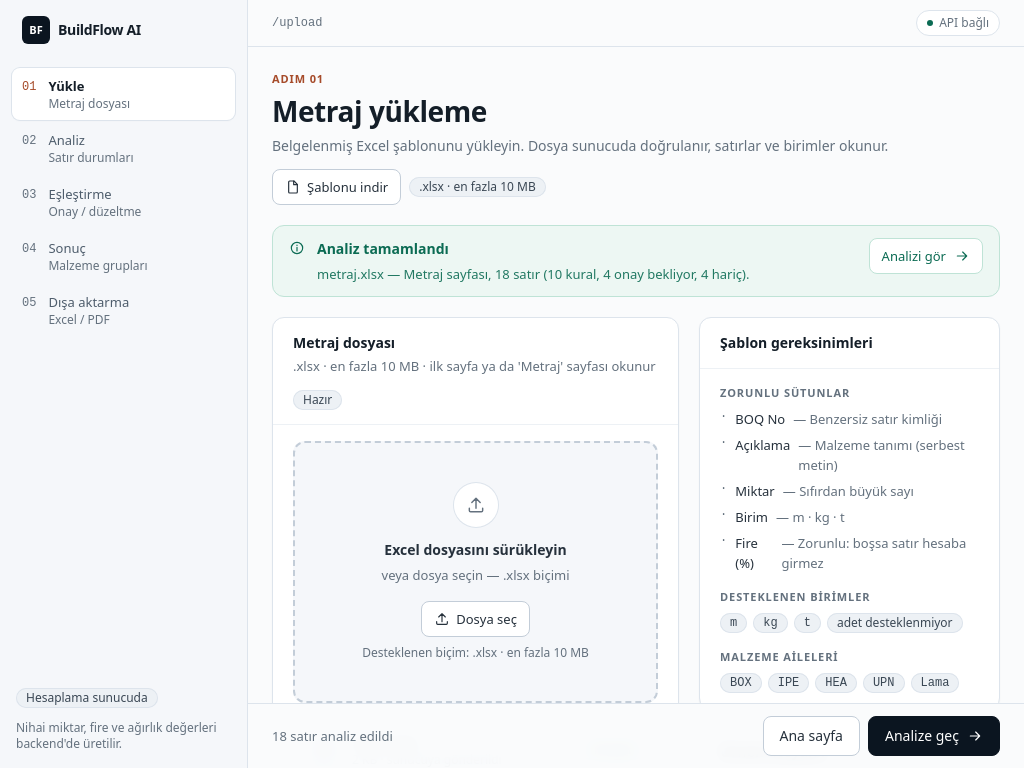
Test: ReviewPage › tüm satırları sunucu sayılarıyla listeler
Earlier steps of the test are not shown.
Expected: the text "Analiz tamamlandı" is shown, [317,239,449,258]
What coordinates should you click on to do the following:
click the button "Analize geç"
I would click on:
 (934, 736)
Its box is [868,716,1000,756].
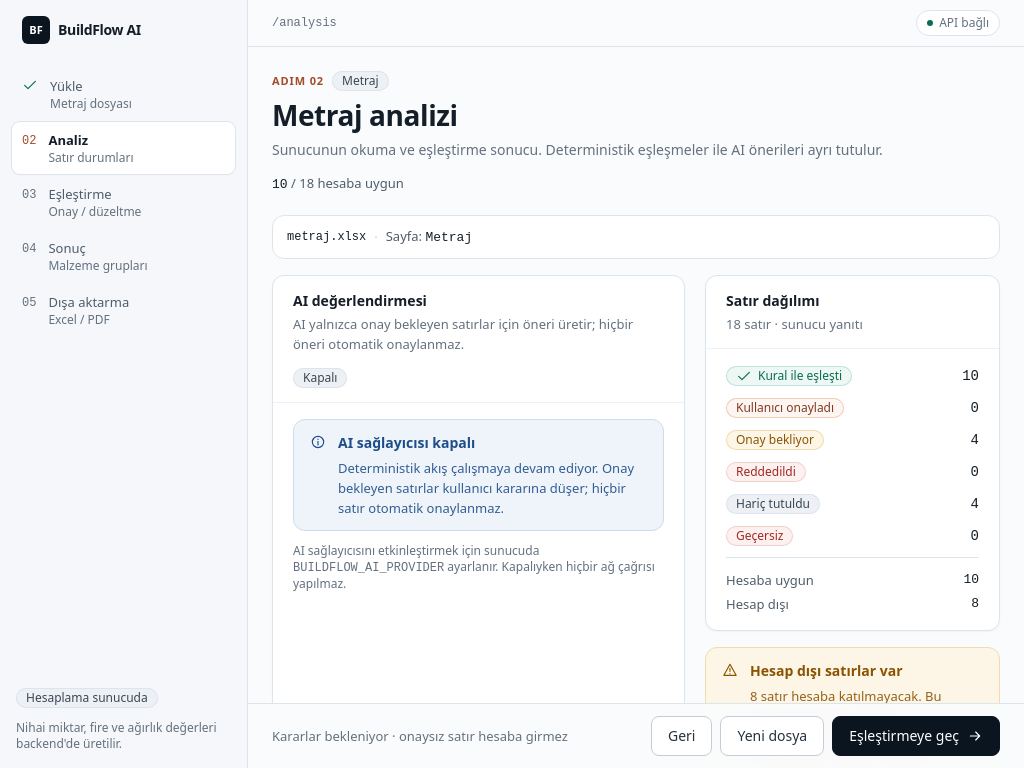
Now the heading "Metraj analizi" is shown, box [272,96,458,134]
What coordinates should you click on to do the following:
click the button "Eşleştirmeye geç"
I would click on:
 (916, 736)
Its box is [832,716,1000,756].
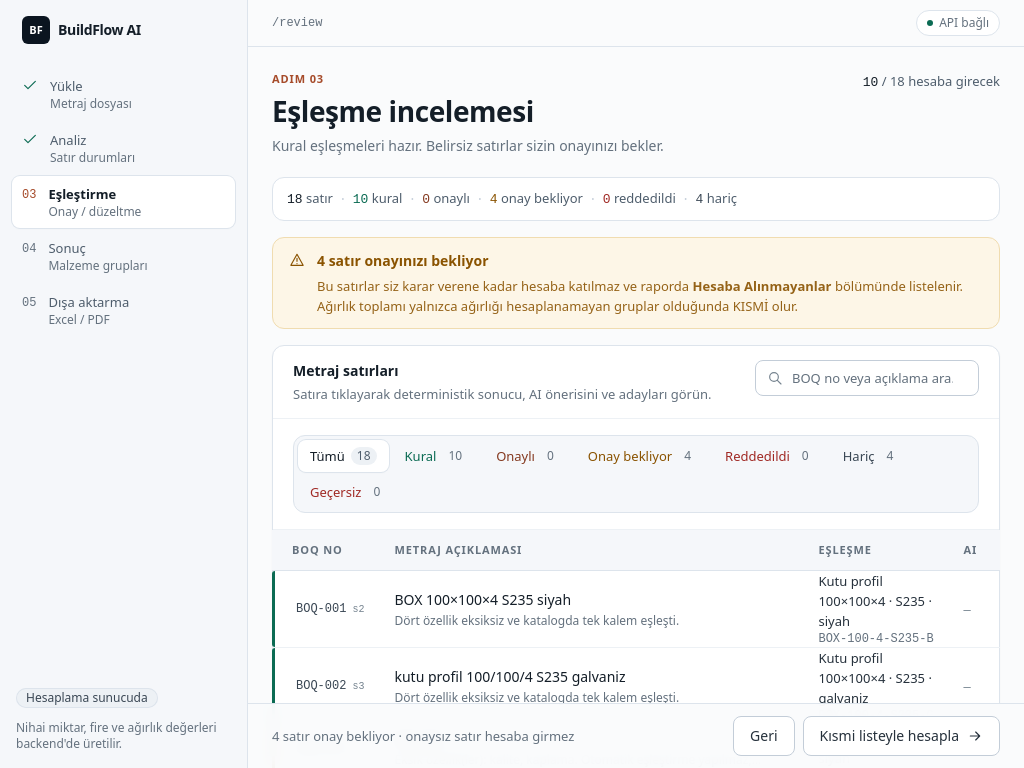
Now the heading "Eşleşme incelemesi" is shown, box [272,92,534,130]
Now the 1st text "18" is shown, box [287,192,303,207]
Now the text "BOQ-001" is shown, box [296,602,346,616]
